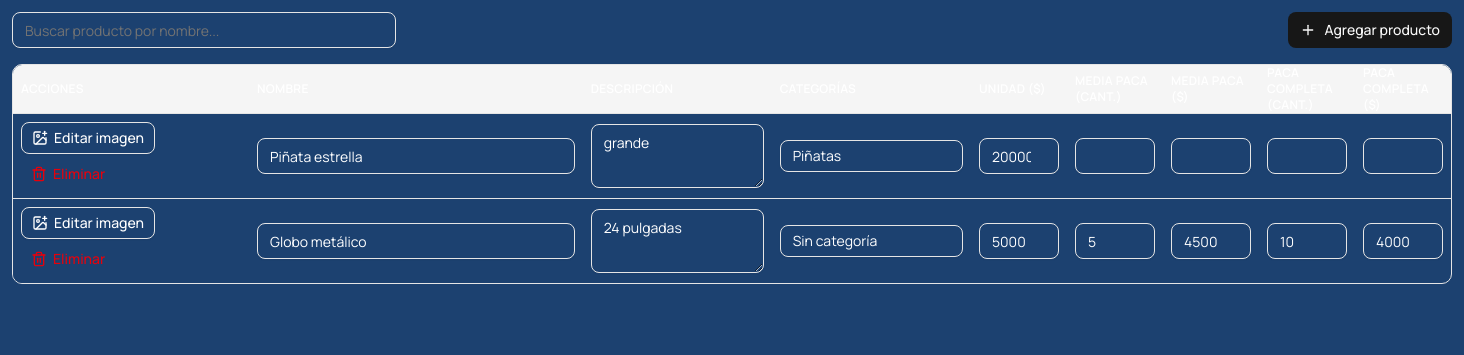
ProductEditorTable › shows an error banner and keeps the row when deletion fails
The width and height of the screenshot is (1464, 355).
Click the 1st button "Eliminar" at (68, 174), box [21,158,115,190]
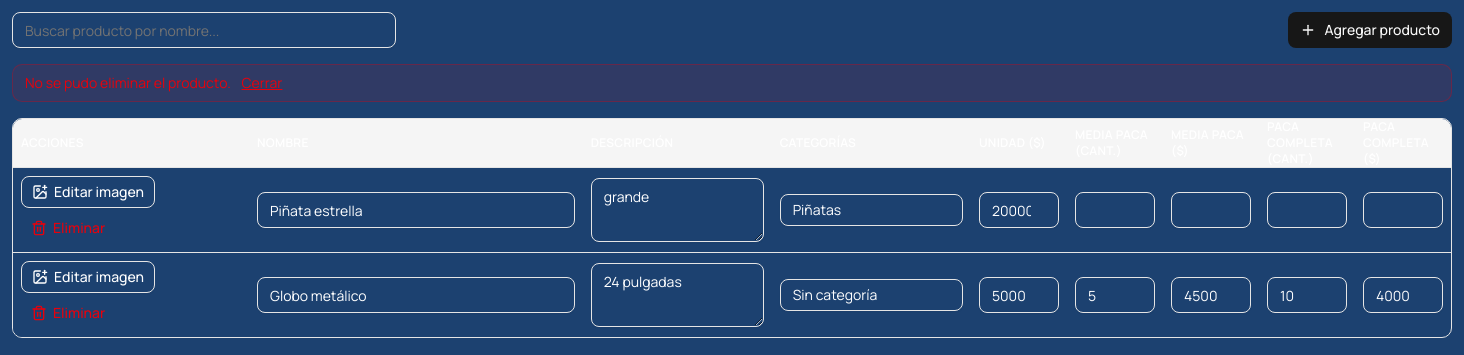
Expected: the 1st field showing "Piñata estrella" is shown, [257,192,575,228]
Expected: the element with test id "global-error-banner" shows "No se pudo eliminar el producto.", [25,73,231,92]
